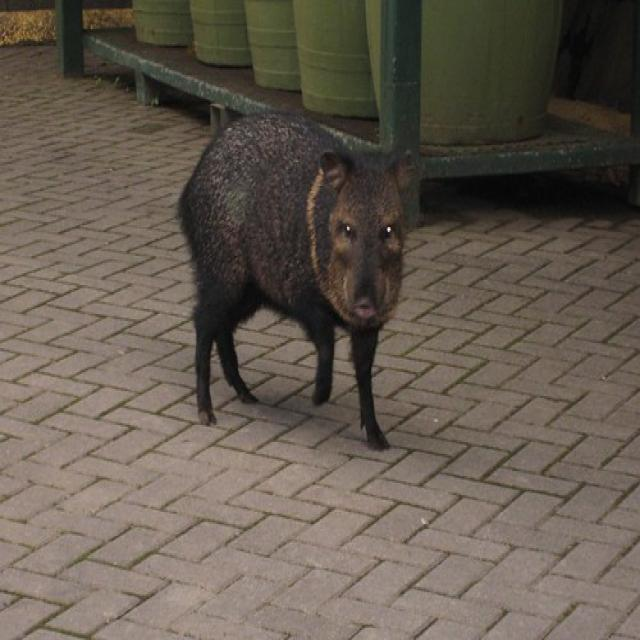boar: (165, 86, 421, 479)
